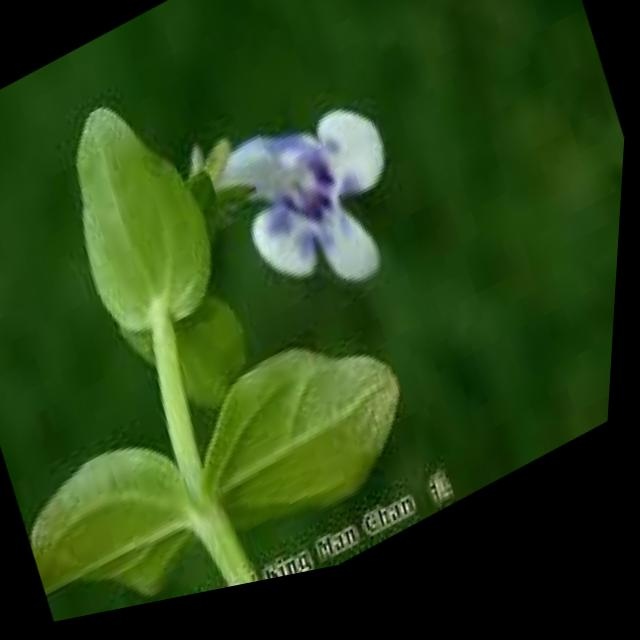Flower: (198, 60, 434, 356)
